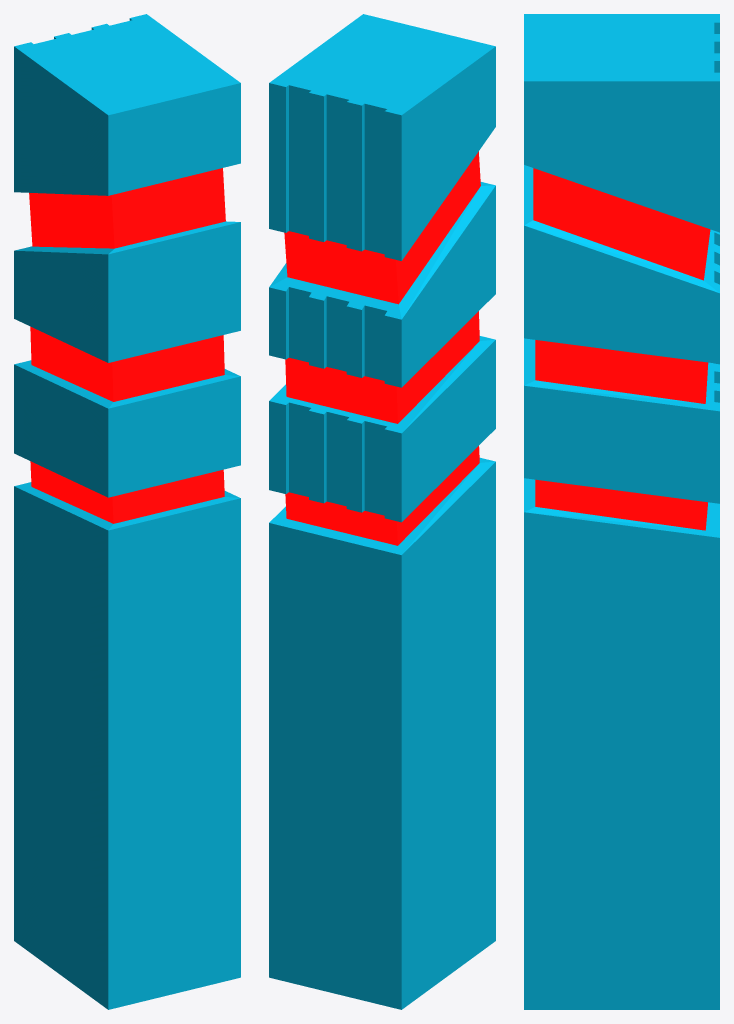
File: Building.fbx
The picture shows the model from 3 angles, left to right: view 1: azimuth 30°, elevation 25°; view 2: azimuth 150°, elevation 25°; view 3: azimuth 270°, elevation 25°; orthographic projection. The views are drawn at different scales.
Parts seen in each view (by area): view 1: Box017; view 2: Box017; view 3: Box017.
Boxes of the visible parts, bbox=[...] form: Box017: bbox=[14, 14, 240, 1009]; Box017: bbox=[269, 14, 495, 1009]; Box017: bbox=[524, 14, 719, 1009].
Bounding box in the file's own units: 2756 × 17768 × 3393.
